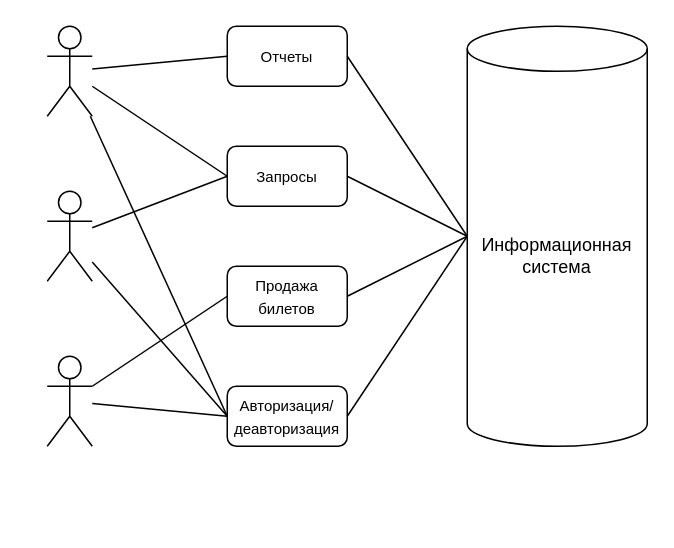
The diagram is 674 pixels wide and 548 high, and some of its shapes have lost their labels. The shapes that lost their labels are listed below. From the top down, each one's box as (x1, y1, x2, y2) in pixels, then its label:
(46, 25, 92, 116): Директор
(46, 190, 92, 281): Менеджер
(46, 355, 92, 446): Кассир
